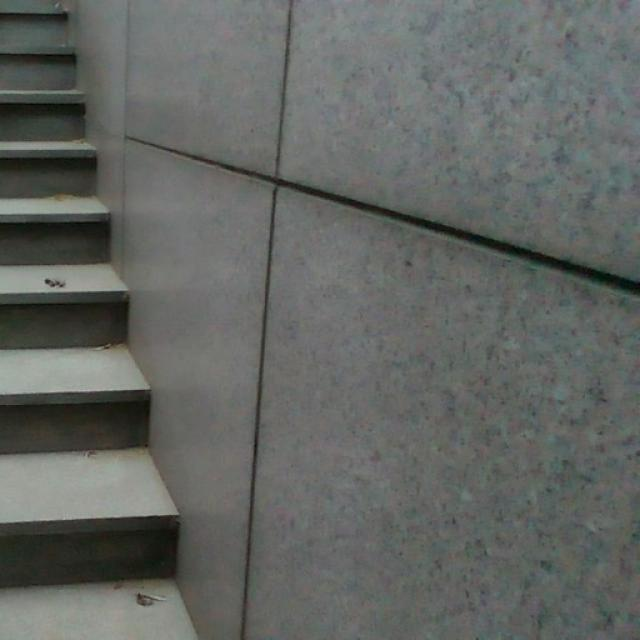stair: (0, 5, 92, 640)
